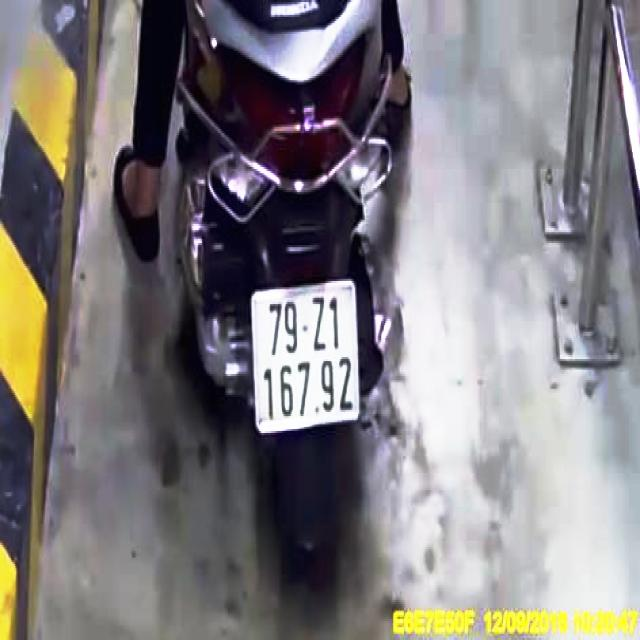license_plate: (256, 280, 357, 429)
